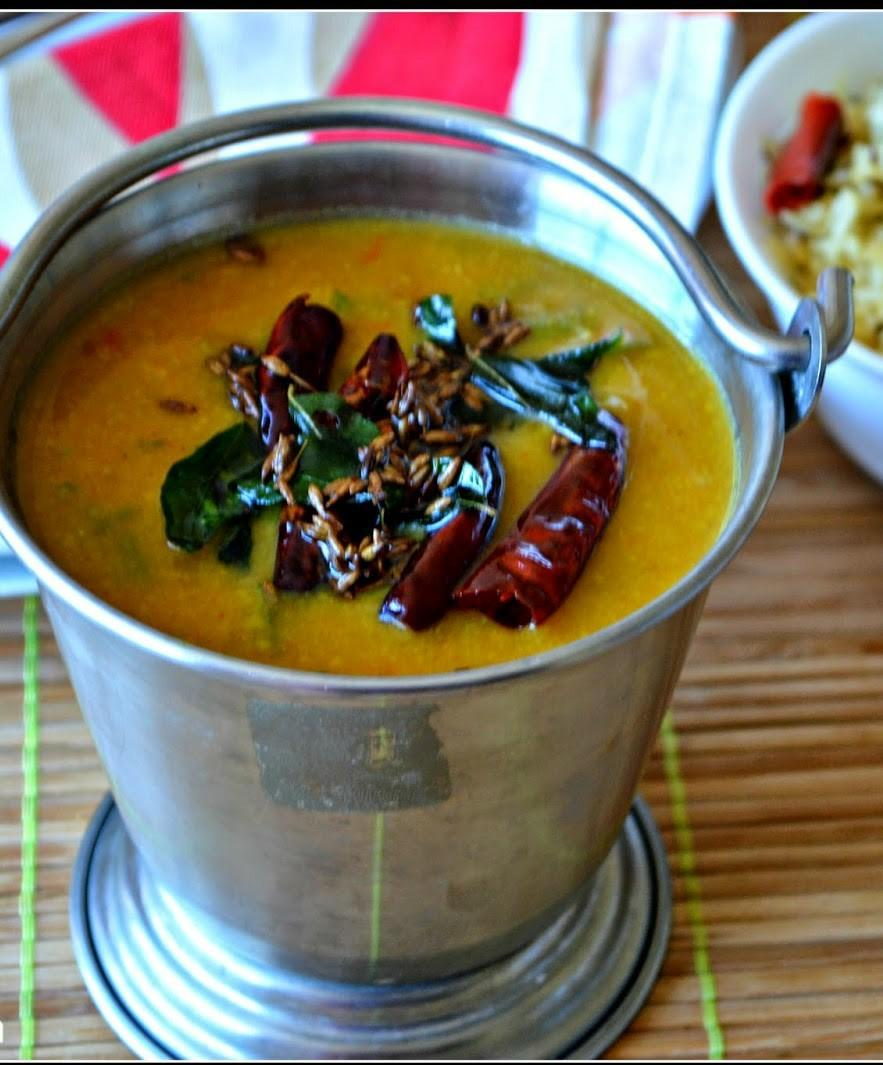Dal: (0, 216, 737, 672)
